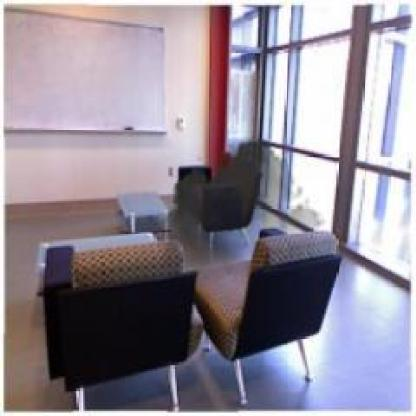Smoke: (158, 132, 326, 302)
